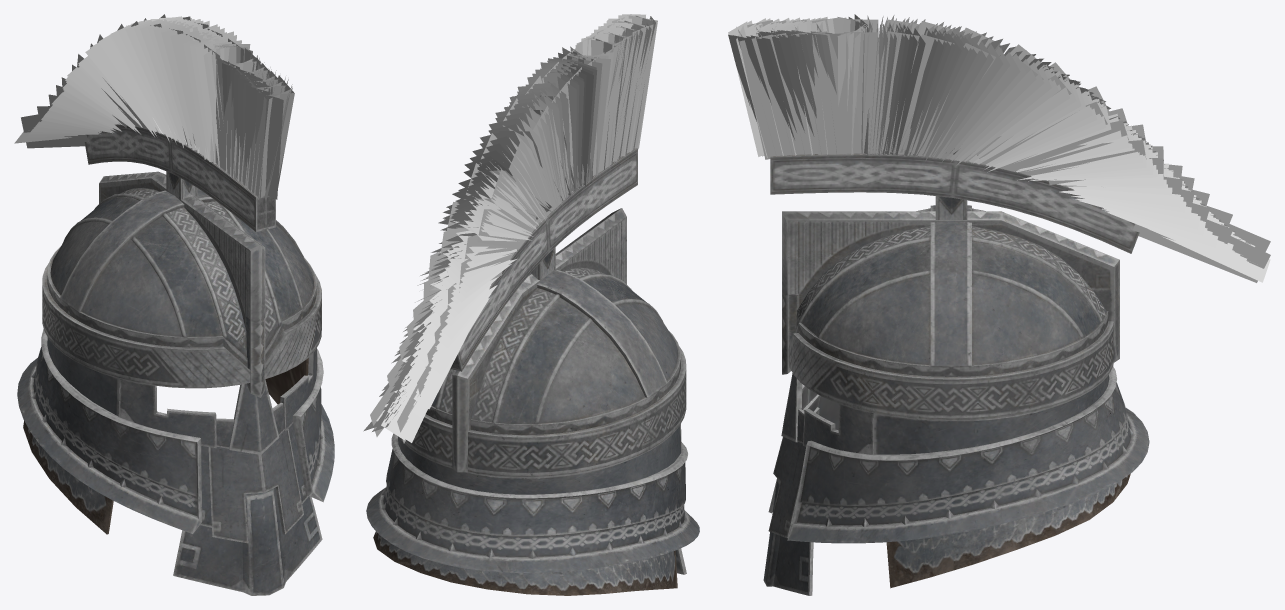
File: sk_dwarf_erebor_helmet_plate_legionary_d.dae
3 renders of one model, left to right at view 1: azimuth 30°, elevation 25°; view 2: azimuth 150°, elevation 25°; view 3: azimuth 270°, elevation 25°, orthographic. The views are drawn at different scales.
Parts seen in each view (by area): view 1: sk_dwarf_erebor_helmet_plate_legionary_d; view 2: sk_dwarf_erebor_helmet_plate_legionary_d; view 3: sk_dwarf_erebor_helmet_plate_legionary_d.
Part boxes in pixels (x1=…): sk_dwarf_erebor_helmet_plate_legionary_d: x1=14, y1=14, x2=334, y2=595; sk_dwarf_erebor_helmet_plate_legionary_d: x1=363, y1=14, x2=699, y2=595; sk_dwarf_erebor_helmet_plate_legionary_d: x1=728, y1=14, x2=1270, y2=595.
Size of the model in its own units: 0.2865 by 0.4755 by 0.537.
Materials: 2 (2 with a texture image).
